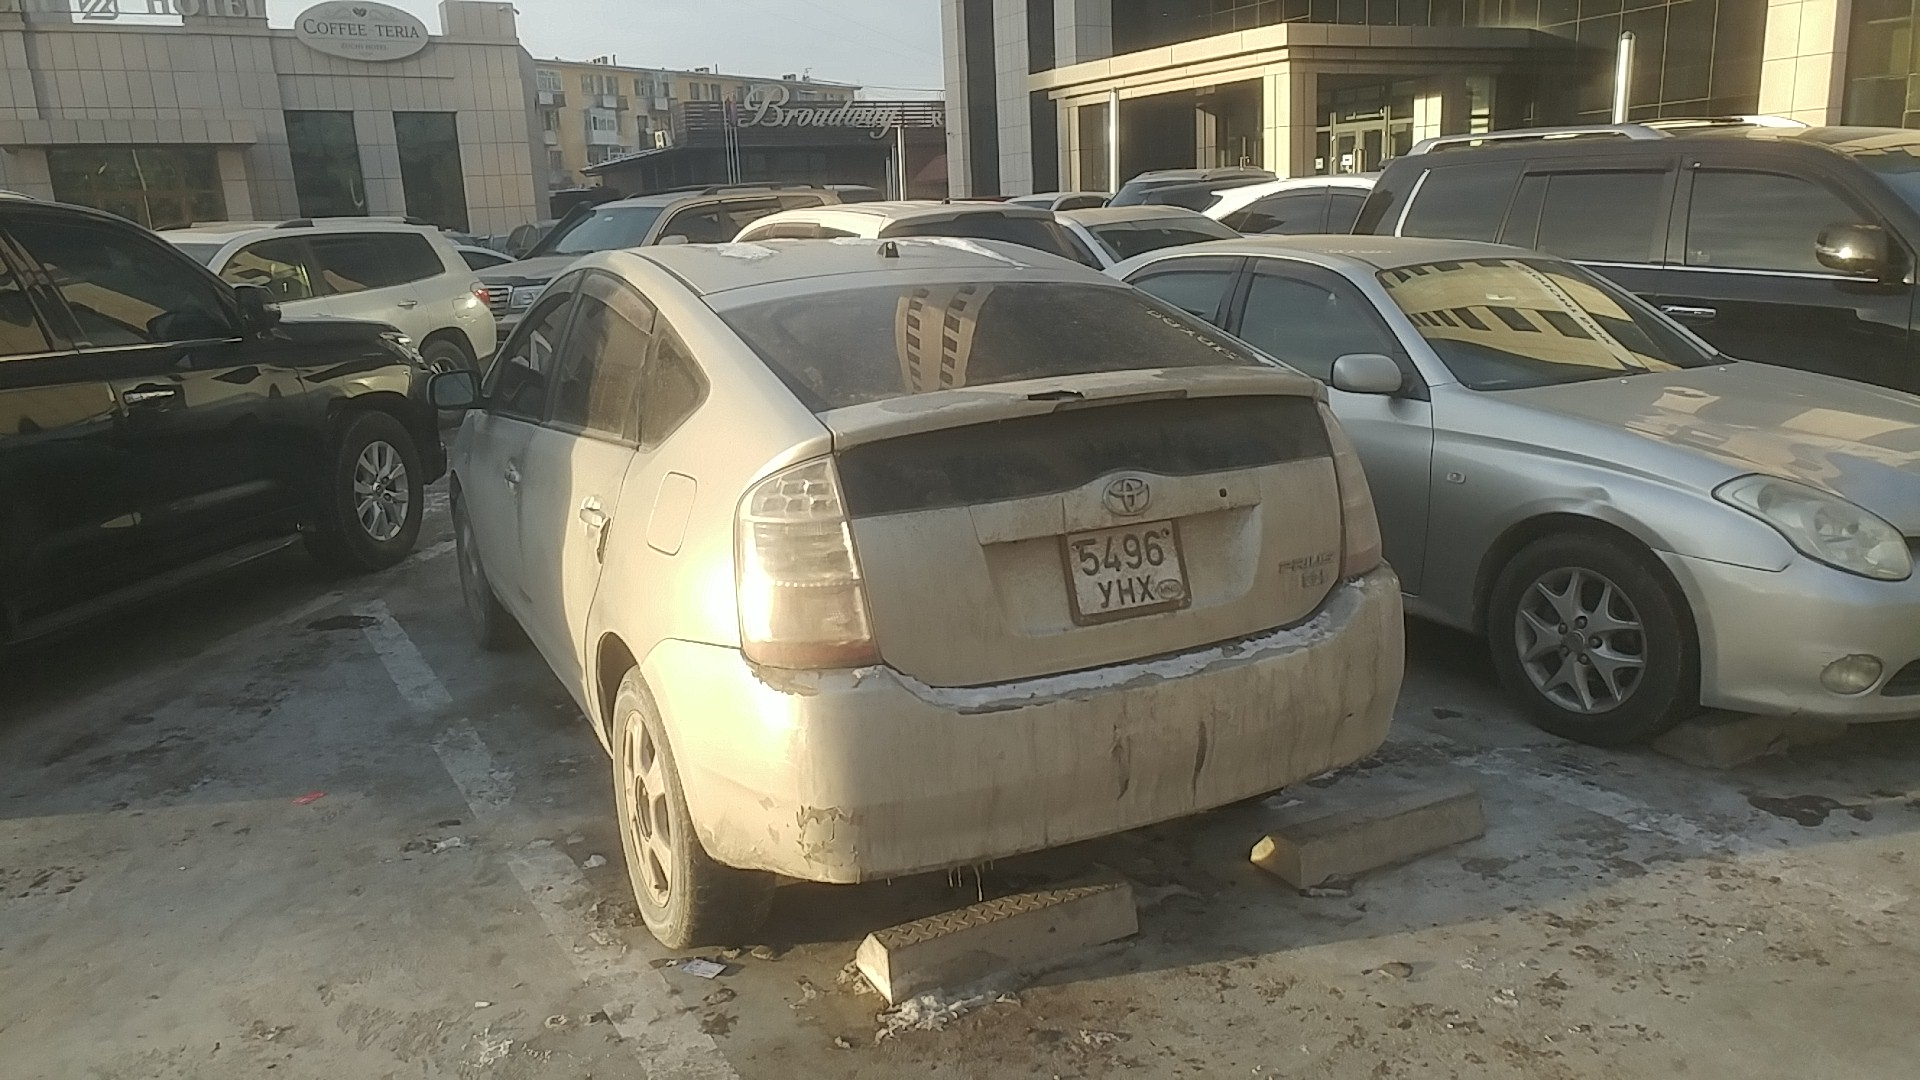4: (1103, 536, 1123, 573)
5: (1077, 538, 1102, 576)
6: (1143, 529, 1166, 566)
9: (1121, 531, 1145, 571)
h: (1135, 574, 1156, 603)
n: (1116, 576, 1136, 607)
plate: (1060, 514, 1194, 627)
u: (1097, 579, 1114, 608)
